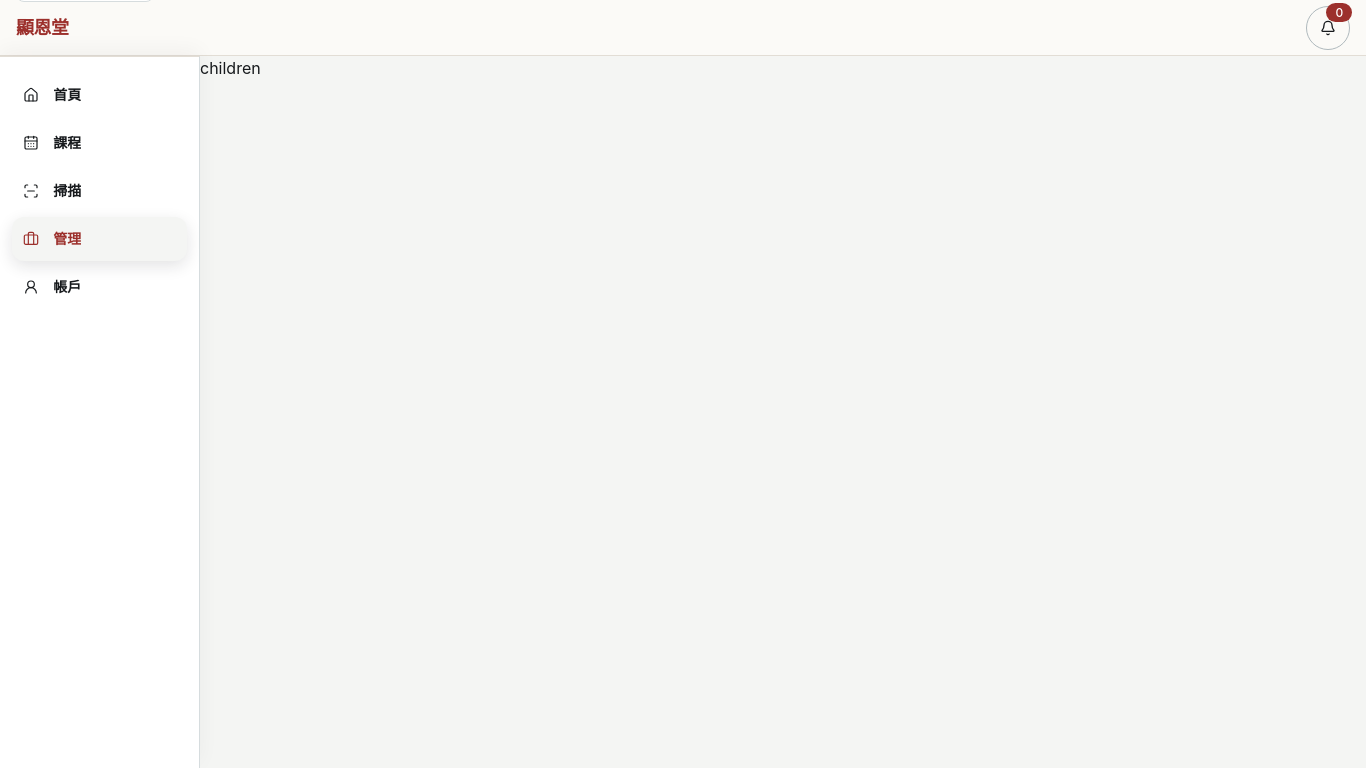
Test: Authenticated Shell (TK-04/TK-05/TK-06/TK-07/TK-08) › management shell renders brand chrome and the attention dialog is a Radix dialog
The image size is (1366, 768).
Expected: the navigation bar named "主要導航" is shown, [0,56,200,767]
Click the button named "注意事項": {"x": 1328, "y": 28} [1306,6,1350,50]
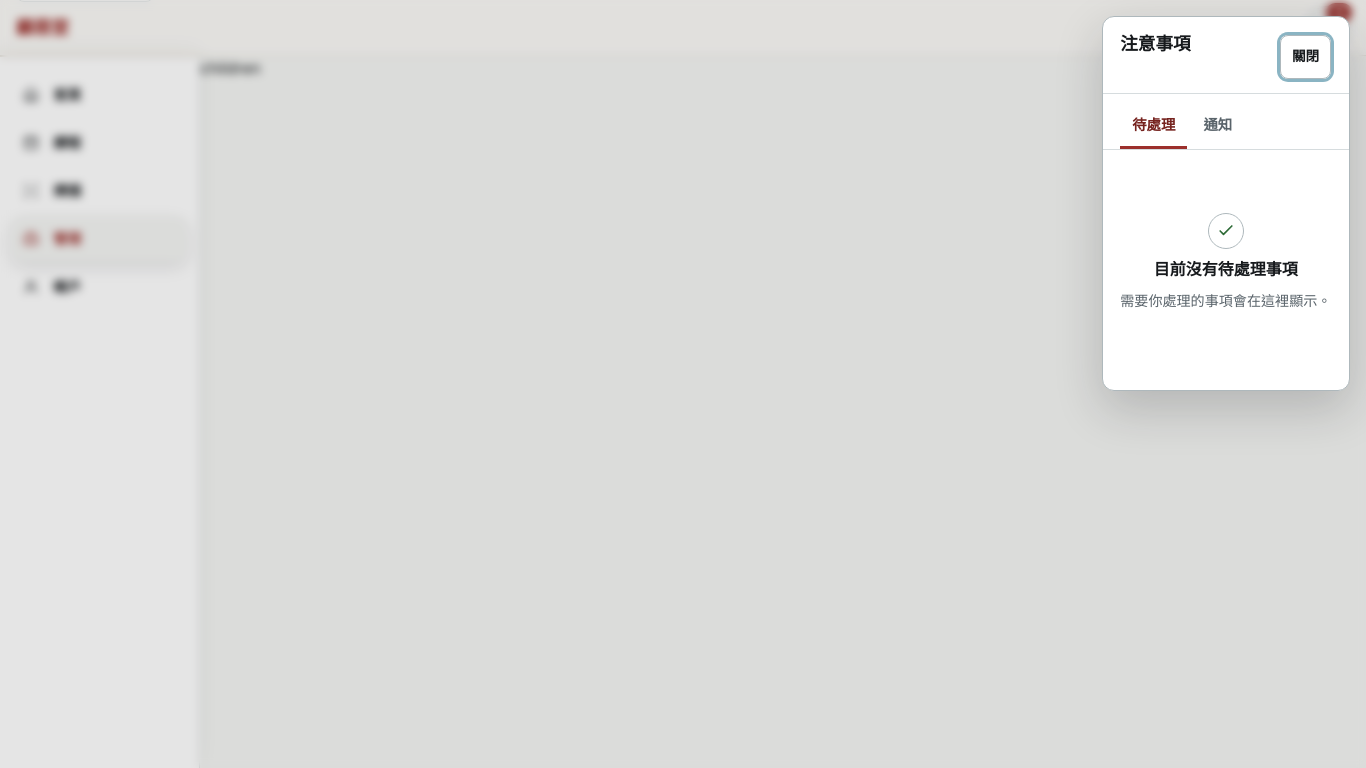
Result: the dialog "注意事項" is shown at [1102,16,1350,391]
Press Escape
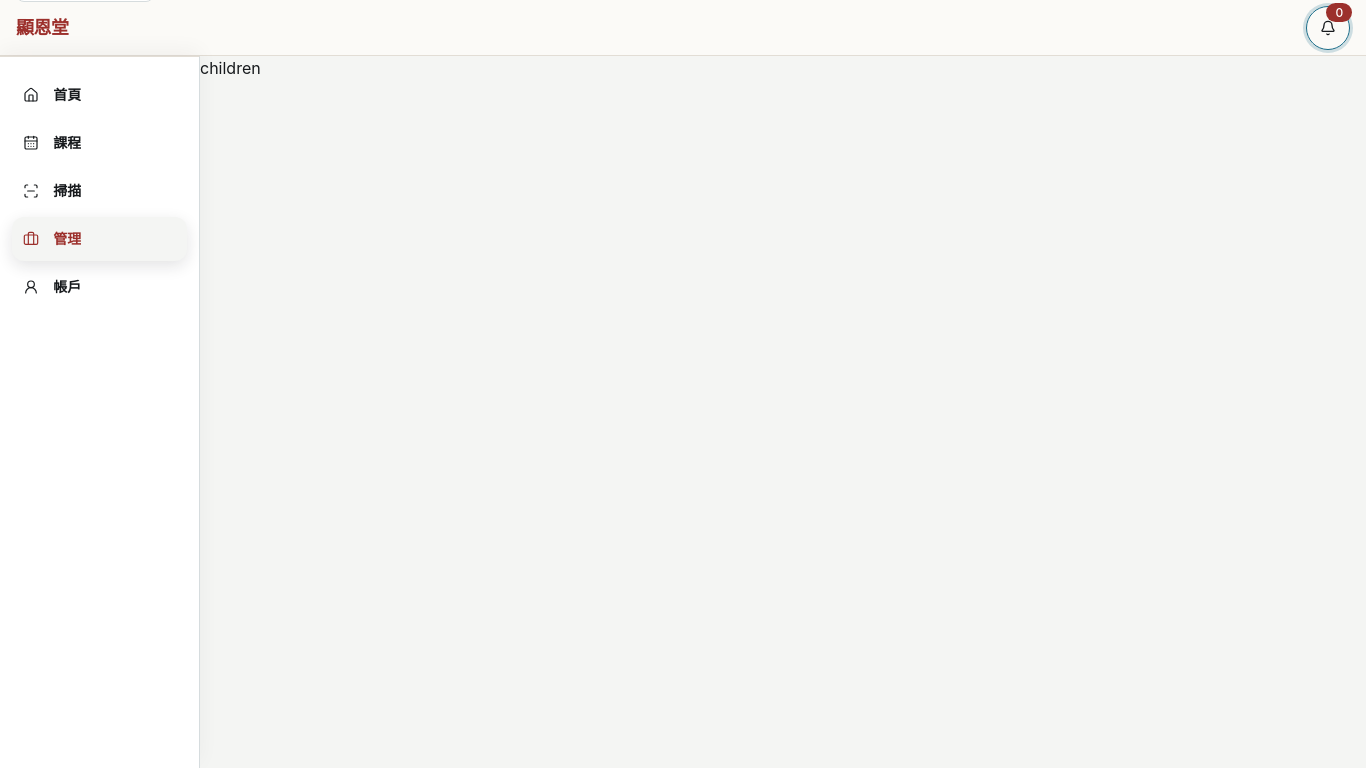
Result: the dialog is gone
